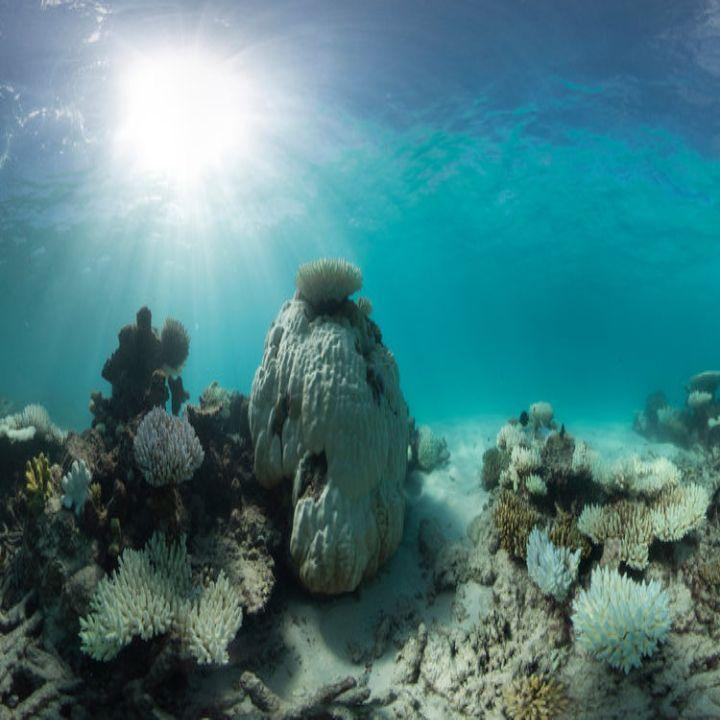Bleached disease: (215, 268, 456, 561), (506, 393, 702, 673), (45, 414, 229, 664)
